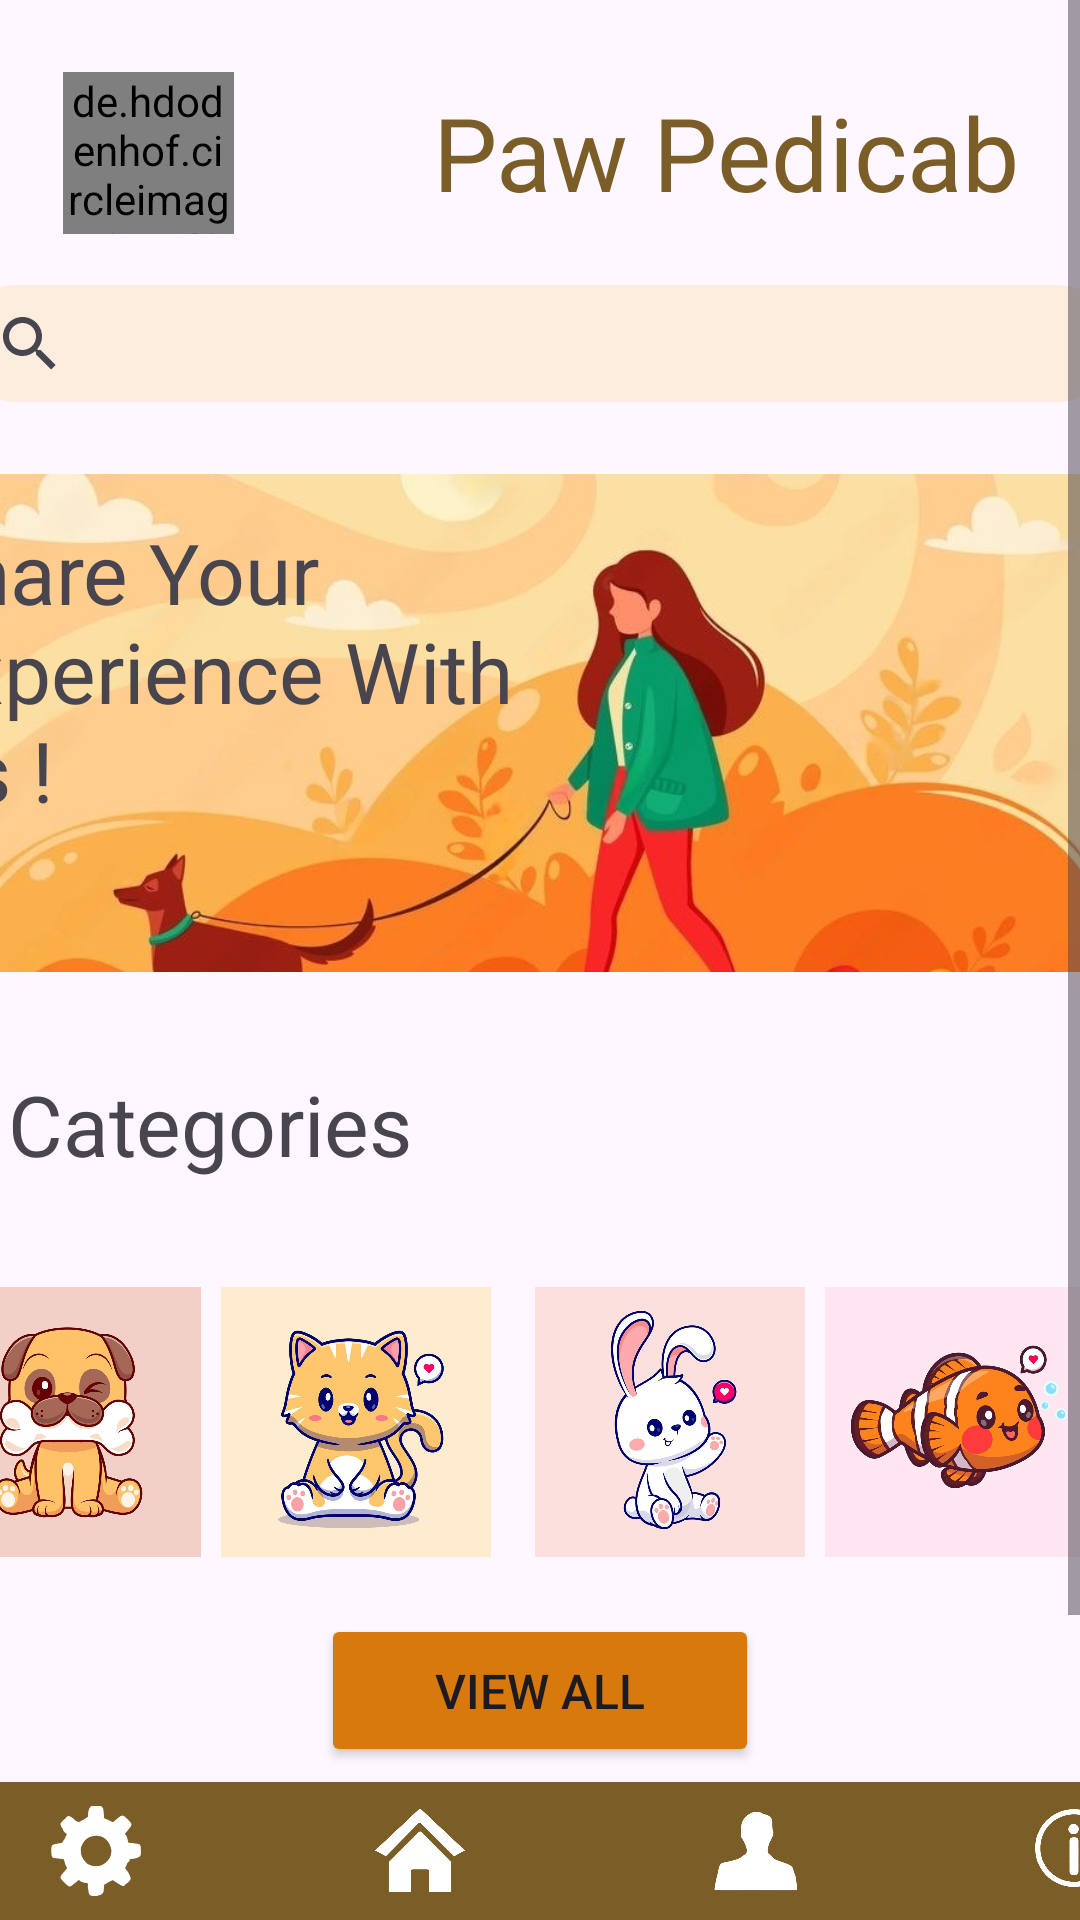

Where to tap for icons on this 1080w x 1920h app screen, as (x,y):
cat: (356,1422)
fish: (958,1416)
home: (420,1850)
profile: (756,1851)
rabbit: (670,1422)
